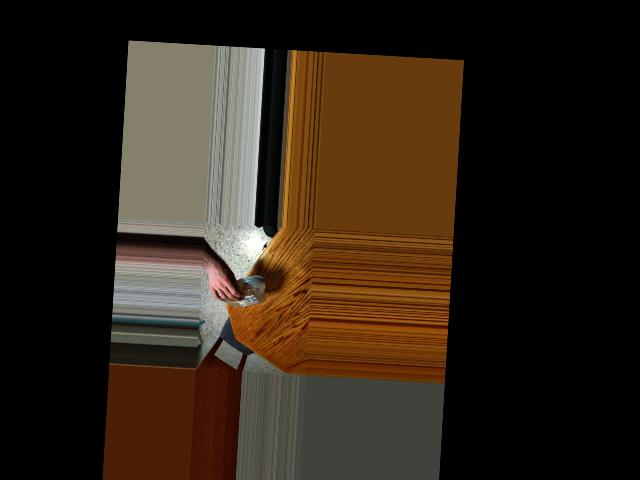cheese: (214, 271, 253, 306)
